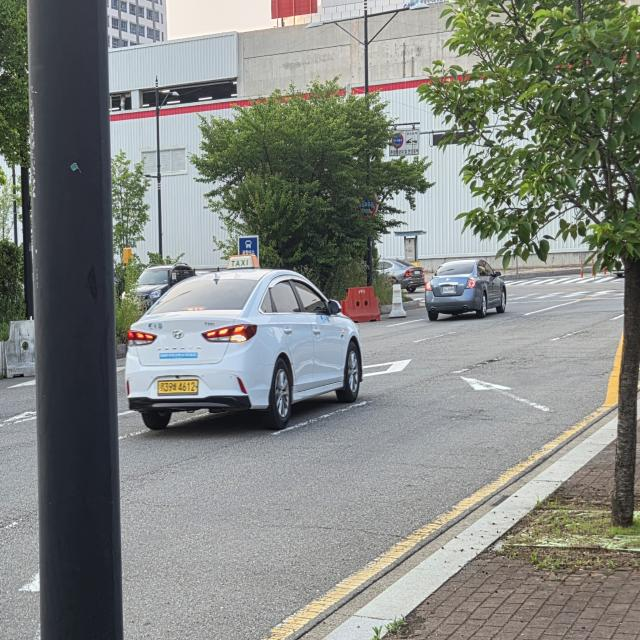car: (114, 259, 378, 456), (418, 245, 528, 332)
